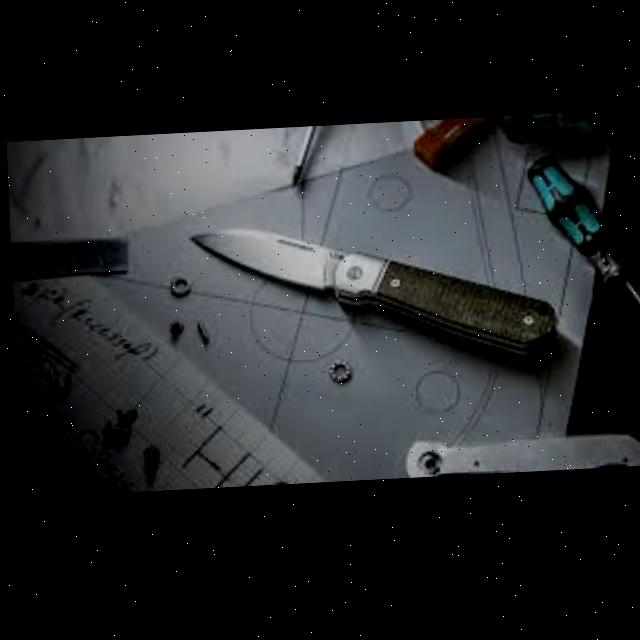knife: (185, 216, 555, 377)
